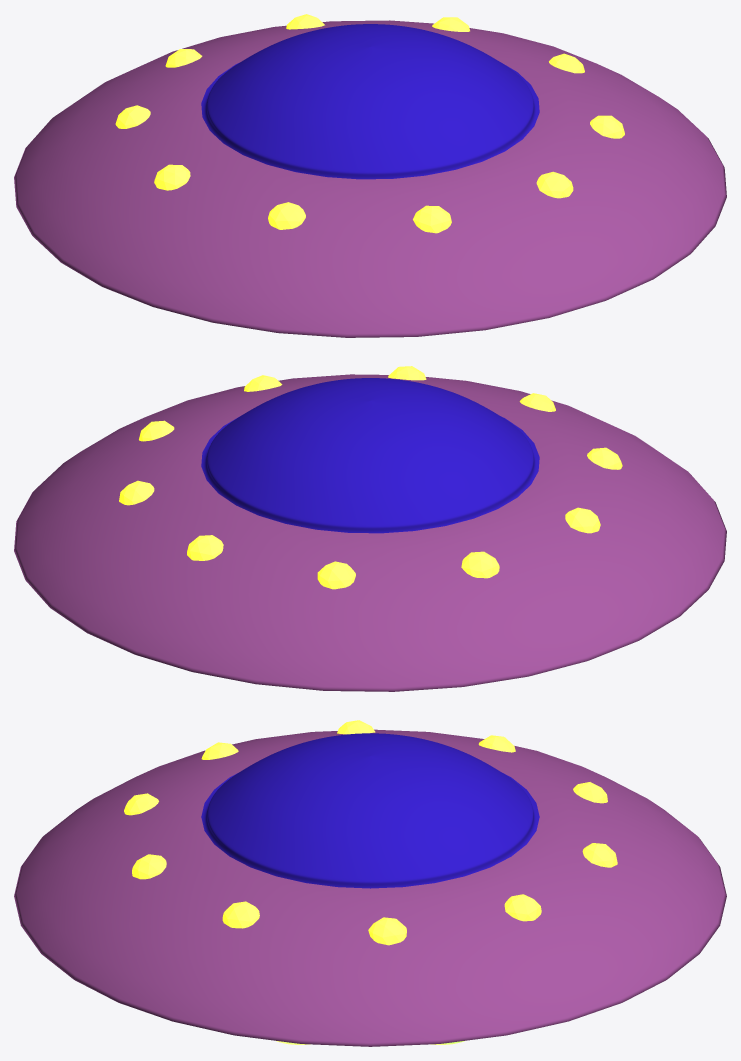
The model's file is Alien spaceship.fbx.
3 renders of one model, top to bottom at view 1: azimuth 30°, elevation 25°; view 2: azimuth 150°, elevation 25°; view 3: azimuth 270°, elevation 25°, orthographic.
Parts seen in each view (by area): view 1: Sphere, Sphere.001, Icosphere; view 2: Sphere, Sphere.001, Icosphere; view 3: Sphere, Sphere.001, Icosphere.
Boxes of the visible parts, x1,y1,x2,y2 form: Sphere: (14, 20, 726, 337); Sphere.001: (201, 24, 539, 179); Icosphere: (115, 14, 624, 233); Sphere: (14, 374, 726, 691); Sphere.001: (201, 378, 539, 533); Icosphere: (119, 366, 622, 589); Sphere: (14, 729, 726, 1046); Sphere.001: (201, 733, 539, 888); Icosphere: (124, 720, 617, 945).
Size of the model in its own units: 460 by 159 by 460.
